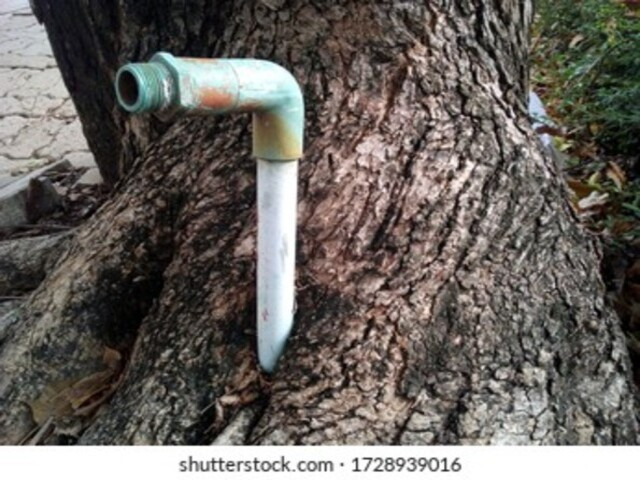Low: (202, 82, 303, 158)
